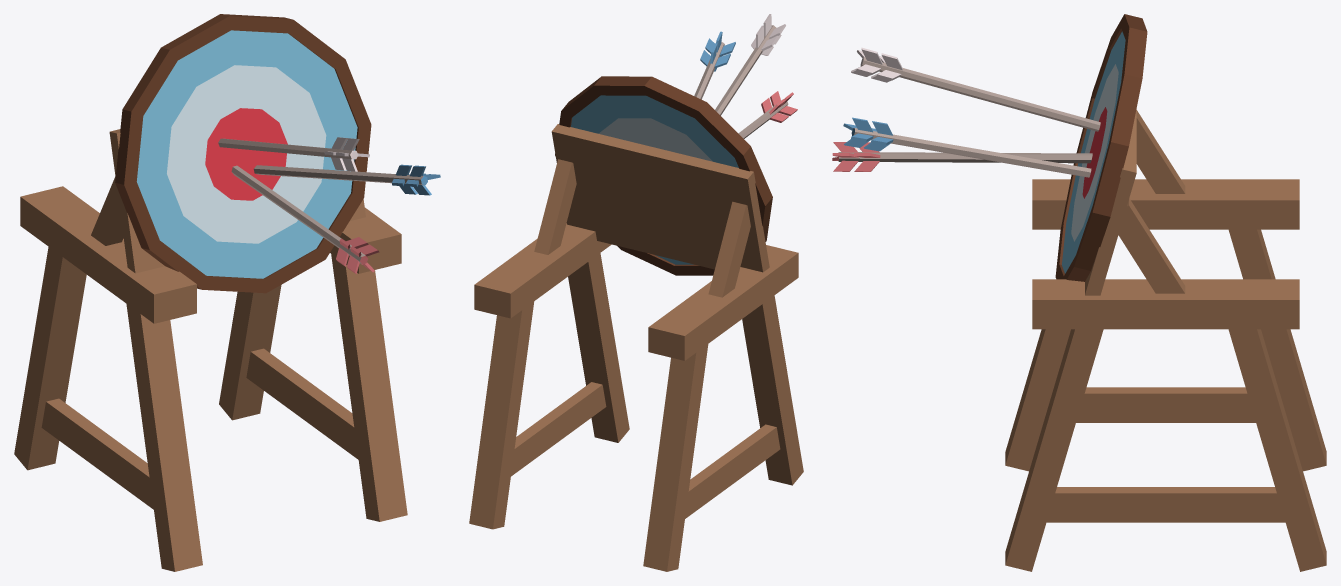
Rendered from Bow_Target.fbx.
3 views of the same model, side by side, from view 1: azimuth 30°, elevation 25°; view 2: azimuth 150°, elevation 25°; view 3: azimuth 270°, elevation 25° (orthographic). The views are drawn at different scales.
Visible parts, largest first — view 1: Bow_Target_Geo; view 2: Bow_Target_Geo; view 3: Bow_Target_Geo.
Part boxes in pixels (x1,y1,x2,y2): Bow_Target_Geo: (14,14,440,571); Bow_Target_Geo: (469,14,803,571); Bow_Target_Geo: (832,14,1326,571).
Bounding box in the file's own units: 39.82 × 75.09 × 69.
